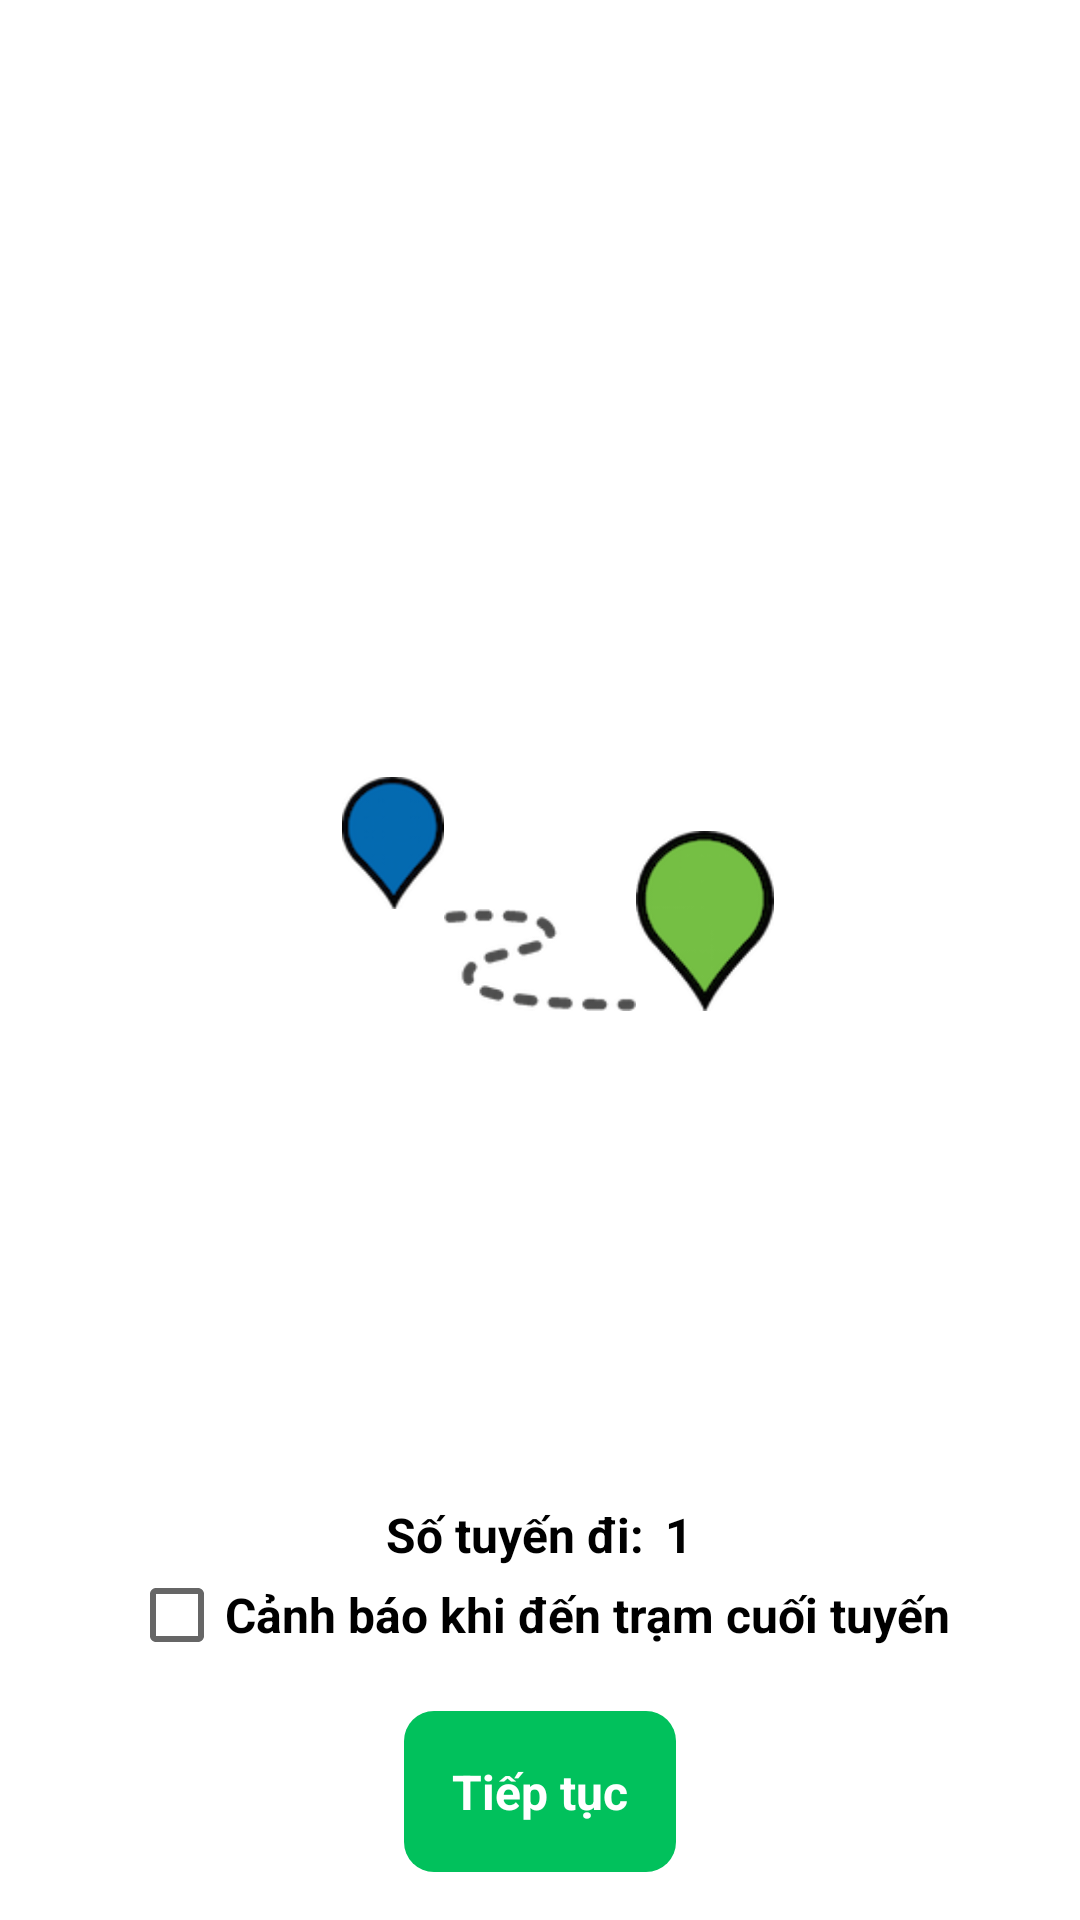

Icon bounding boxes for this 1080 x 1920 phone screenshot, format (x1, y1, x2, y2):
pin: (342, 777, 444, 909), (636, 831, 774, 1011)
